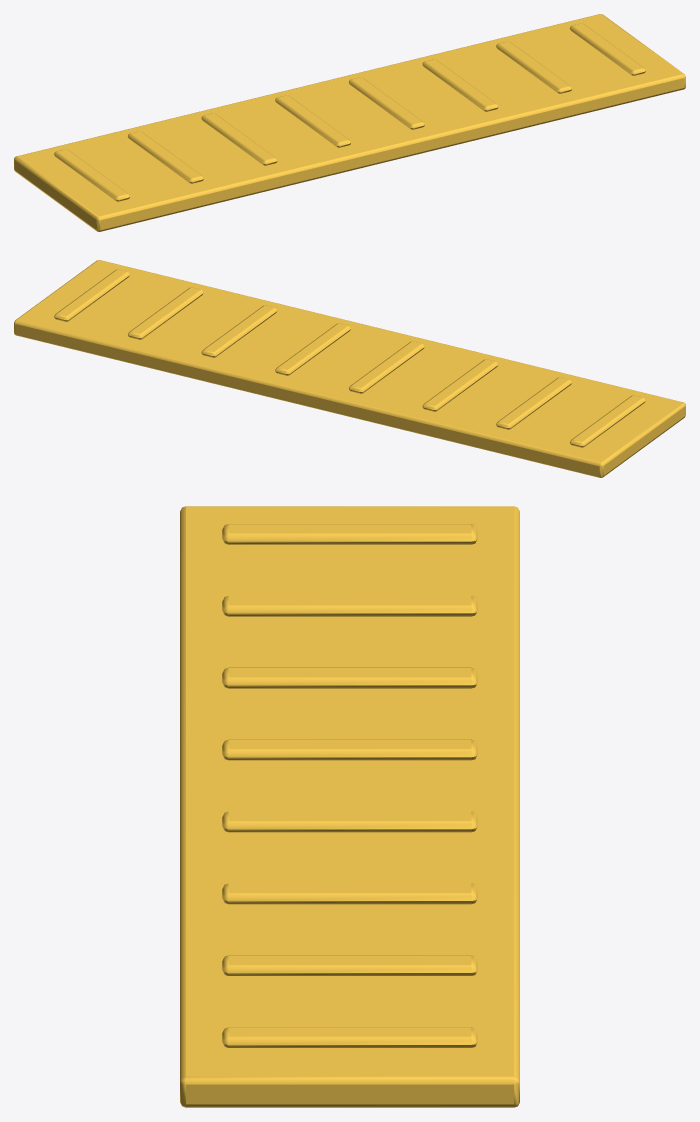
File: MOD_Tactile_Paving_01.glb
The picture shows the model from 3 angles, top to bottom: view 1: azimuth 30°, elevation 25°; view 2: azimuth 150°, elevation 25°; view 3: azimuth 270°, elevation 25°; orthographic projection. The views are drawn at different scales.
Parts seen in each view (by area): view 1: MOD_Tactile_Paving_01; view 2: MOD_Tactile_Paving_01; view 3: MOD_Tactile_Paving_01.
Part boxes in pixels (left/top/right/bottom): MOD_Tactile_Paving_01: left=14, top=14, right=685, bottom=231; MOD_Tactile_Paving_01: left=14, top=260, right=685, bottom=477; MOD_Tactile_Paving_01: left=180, top=506, right=519, bottom=1107.
Bounding box in the file's own units: 2 × 0.068 × 0.5.
